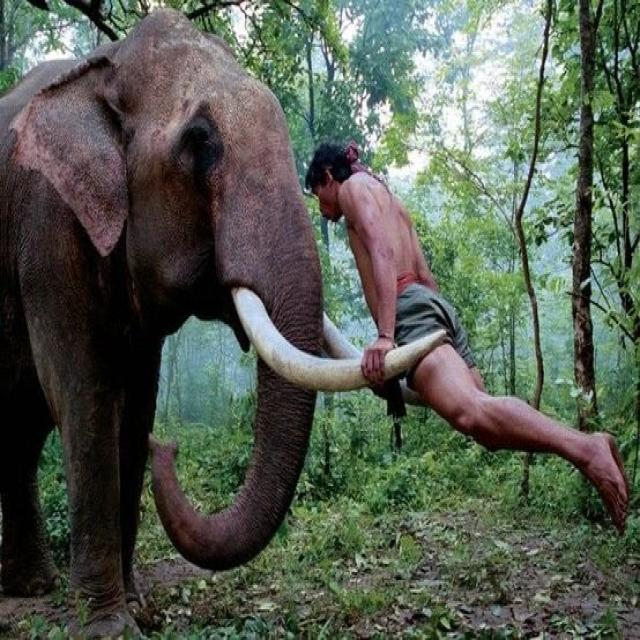Elephant: (1, 5, 320, 632)
person: (305, 143, 627, 528)
